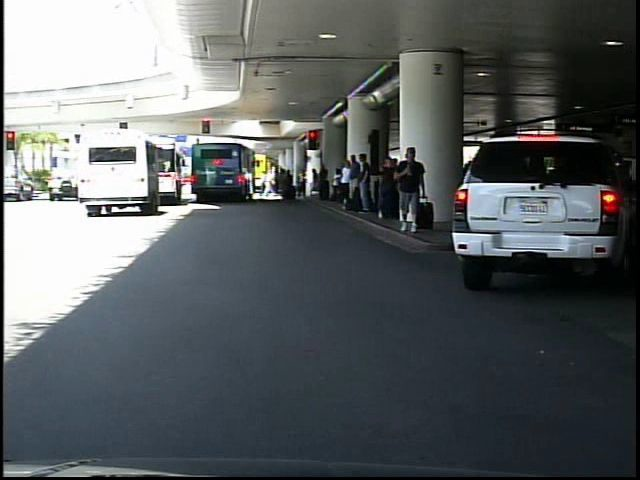person: (393, 144, 427, 237)
